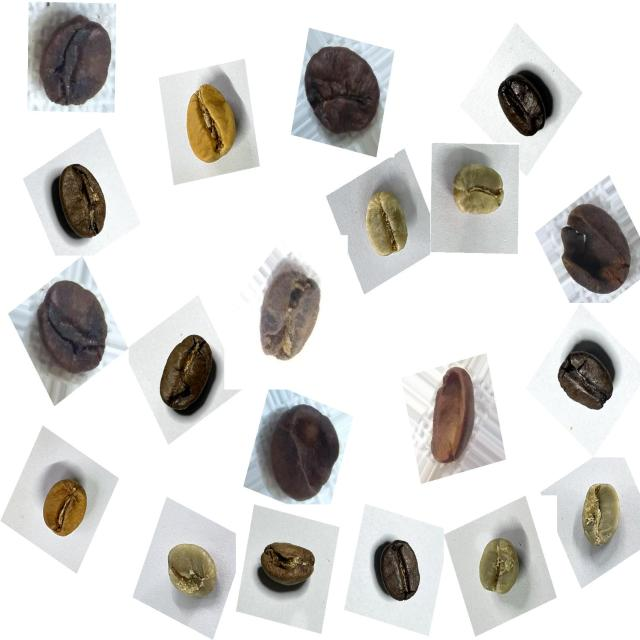bad: (256, 392, 344, 510), (29, 5, 119, 118), (547, 190, 635, 304), (28, 273, 118, 384), (300, 34, 391, 143), (251, 256, 330, 366), (416, 356, 486, 472)
dark: (487, 56, 565, 146), (546, 334, 623, 424)
green: (567, 468, 638, 560), (440, 148, 514, 232), (352, 178, 416, 270), (158, 530, 227, 614), (466, 526, 531, 610)
light: (168, 71, 250, 179), (34, 462, 100, 550)
medium: (46, 158, 122, 251), (153, 324, 220, 419), (252, 527, 322, 605), (366, 531, 432, 611)
